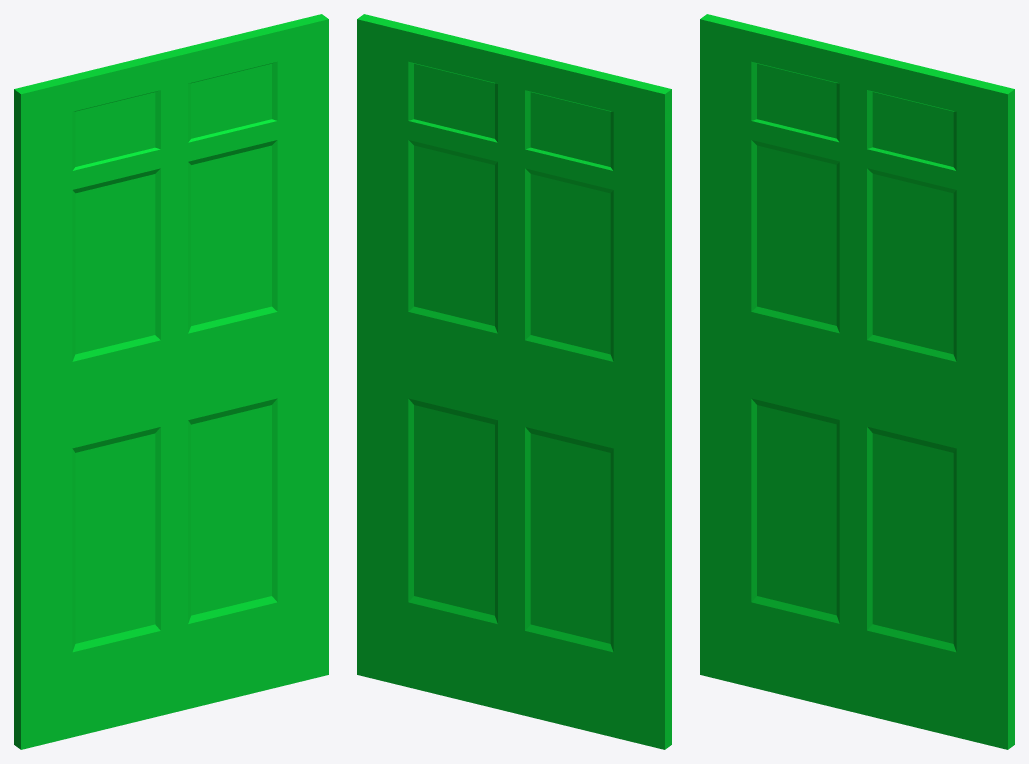
Rendered from Door_high.fbx.
3 renders of one model, left to right at view 1: azimuth 30°, elevation 25°; view 2: azimuth 150°, elevation 25°; view 3: azimuth 330°, elevation 25°, orthographic.
Visible parts, largest first — view 1: door_high2; view 2: door_high2; view 3: door_high2.
Boxes of the visible parts, <box> form: door_high2: <box>14,14,328,749</box>; door_high2: <box>357,14,671,749</box>; door_high2: <box>700,14,1014,749</box>.
Bounding box in the file's own units: 1.47 × 3 × 0.0588.
